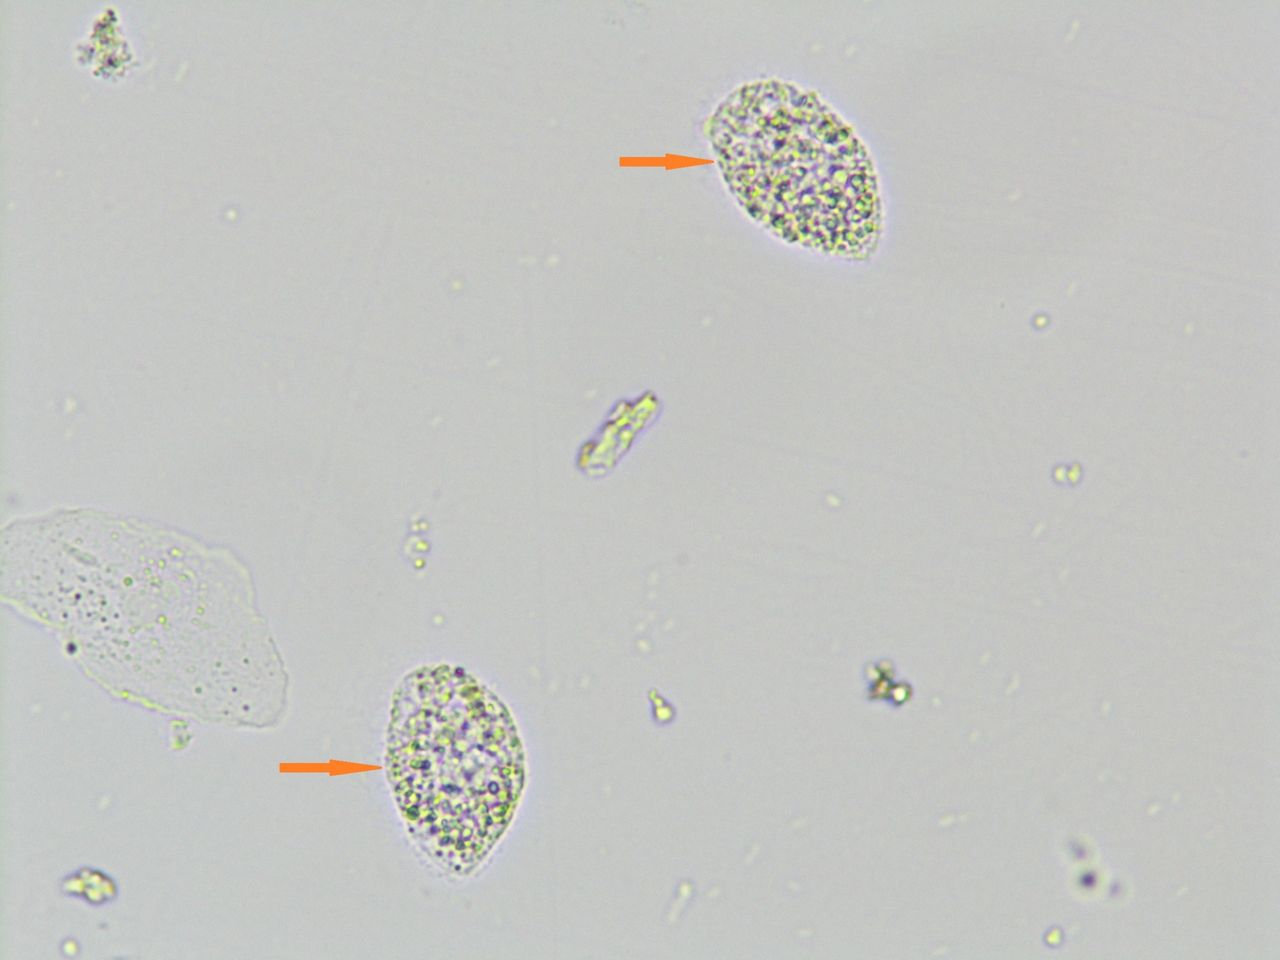Parasite: (709, 63, 905, 296), (378, 633, 545, 892)
